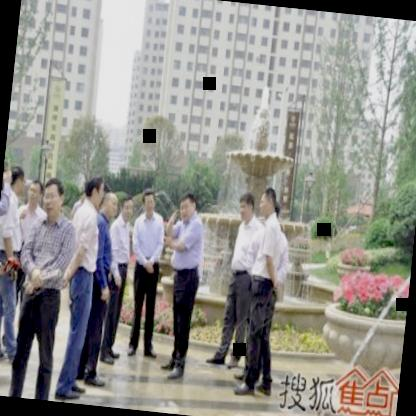head: (40, 176, 67, 219), (80, 169, 108, 209), (256, 182, 280, 220), (23, 174, 45, 212), (233, 192, 256, 228), (176, 190, 199, 226), (98, 188, 121, 219), (119, 188, 136, 224), (140, 184, 158, 217)
